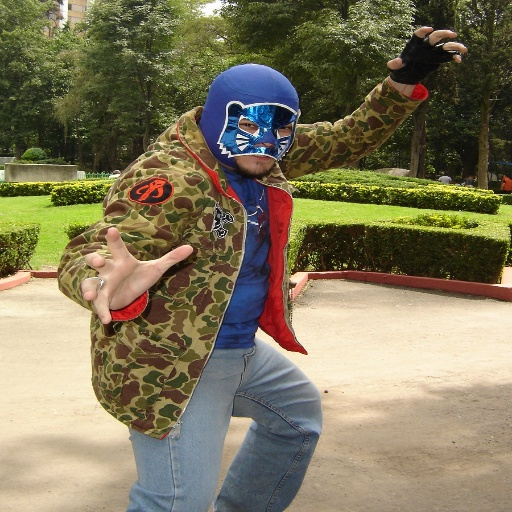hand: (78, 226, 193, 325), (398, 19, 492, 76), (500, 186, 506, 191)
